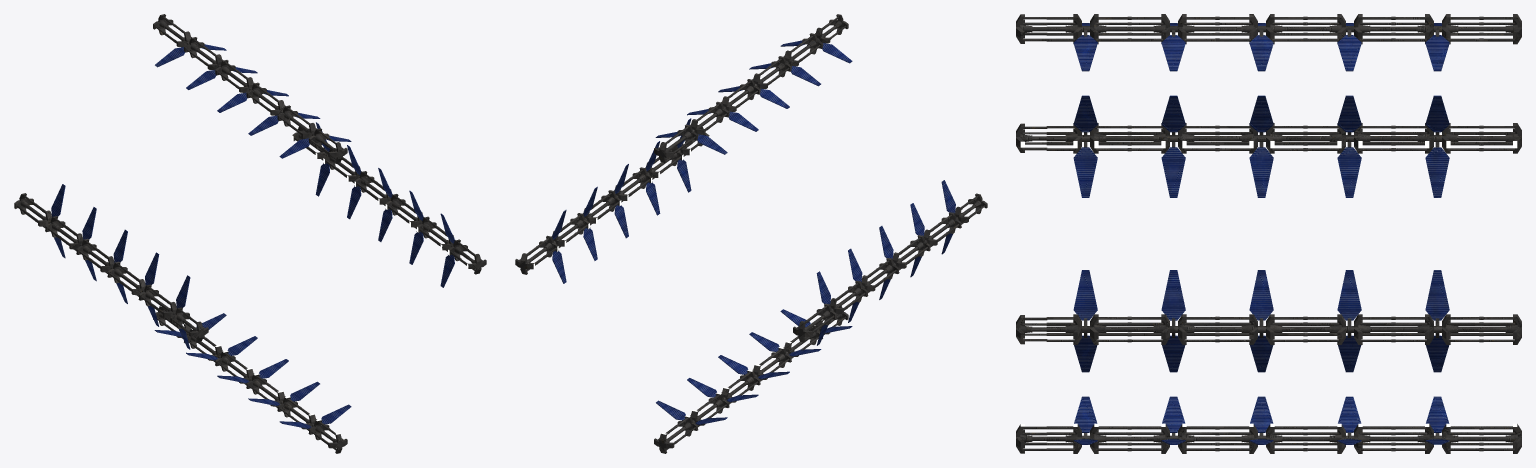
Rendered from jump-gate-4strut.glb.
3 views of the same model, side by side, from view 1: azimuth 30°, elevation 25°; view 2: azimuth 150°, elevation 25°; view 3: azimuth 270°, elevation 25° (orthographic). The views are drawn at different scales.
Visible parts, largest first — view 1: Jump_Gate_3D_Complete; view 2: Jump_Gate_3D_Complete; view 3: Jump_Gate_3D_Complete.
Part boxes in pixels (x1,y1,x2,y2): Jump_Gate_3D_Complete: (14, 14, 486, 453); Jump_Gate_3D_Complete: (515, 14, 987, 453); Jump_Gate_3D_Complete: (1016, 14, 1521, 453).
Bounding box in the file's own units: 156 × 156 × 164.
Materials: 3 (2 with a texture image).
